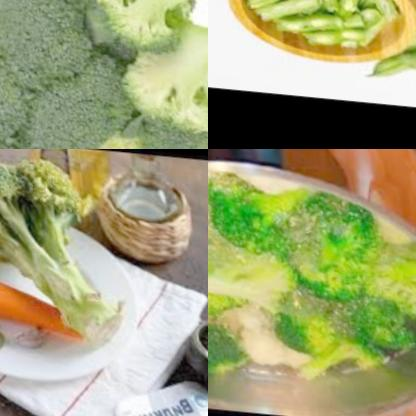beans: (246, 0, 399, 66)
broccoli: (208, 178, 395, 389), (0, 0, 208, 149), (0, 149, 107, 330), (107, 2, 208, 137), (57, 0, 208, 49), (344, 238, 416, 319)
carrot: (0, 246, 76, 337)
cayliflower: (222, 303, 304, 371)
